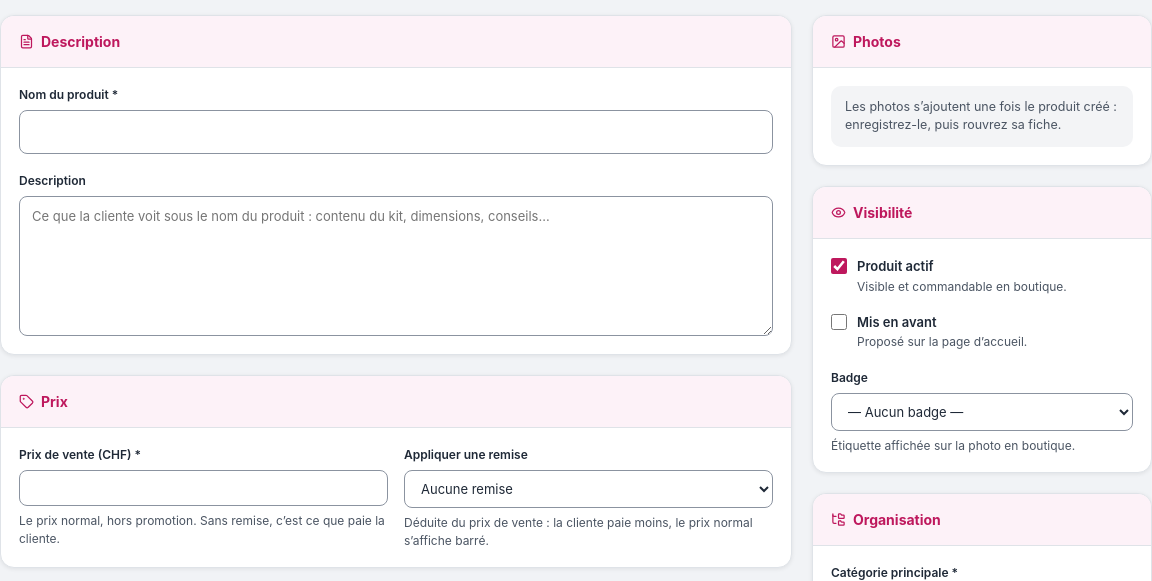
Scenario: ProductForm — vente à la coupe (ADM-12) › signale un minimum qui n'est pas un multiple du pas
Step 1. Type "16.50" into the number field labelled "Prix de vente (CHF) *" → (204, 488), box [19,470,388,506]
(page scrolled)
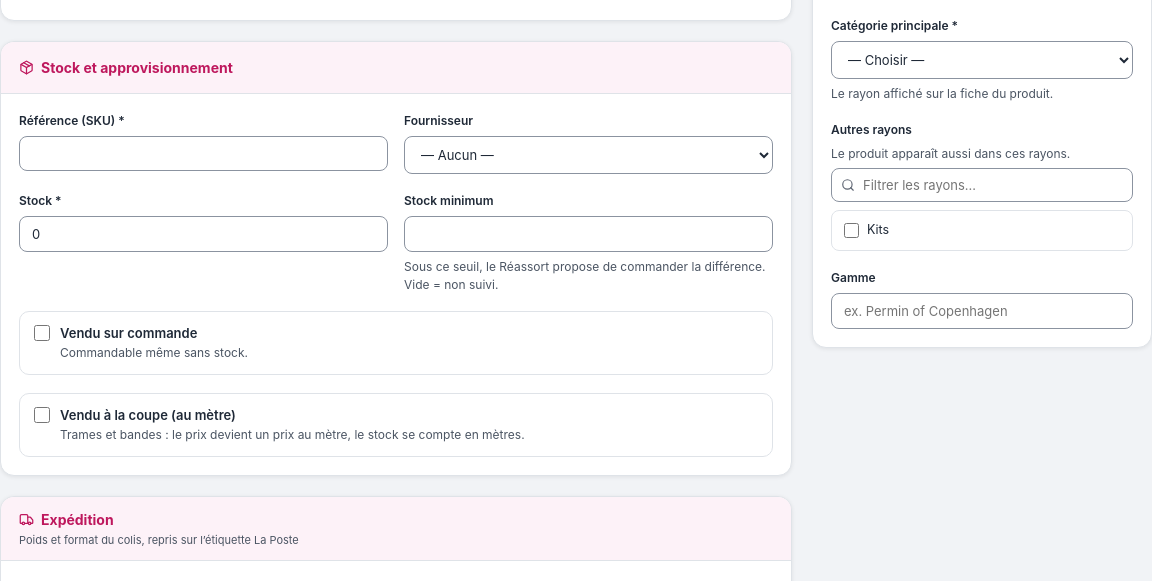
Step 2. Click the checkbox labelled "Vendu à la coupe" → (42, 415), box [34,407,50,423]
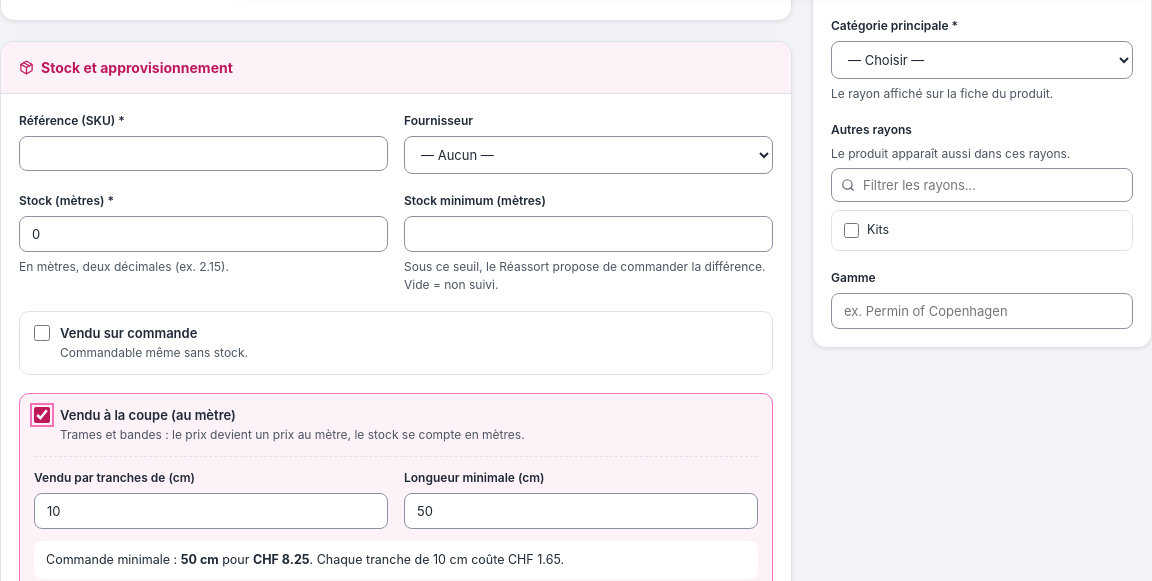
Step 3. Replace the text in the number field labelled "Longueur minimale (cm)" with "55" → (581, 511), box [404,493,758,529]
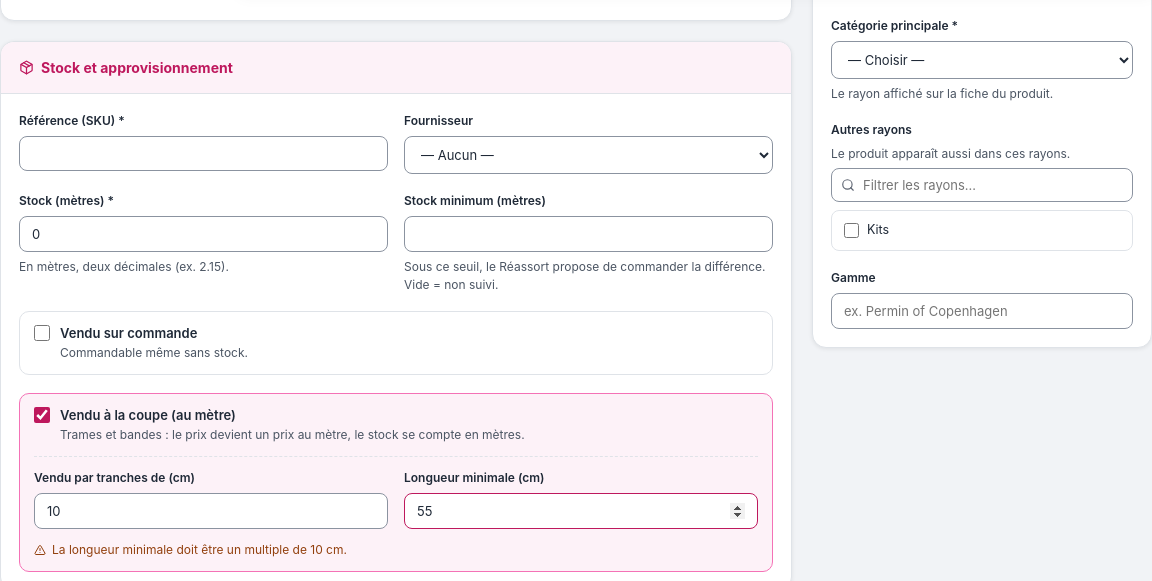
Expected: the text "La longueur minimale doit être un multiple de 10 cm." is shown, [34,542,347,557]
